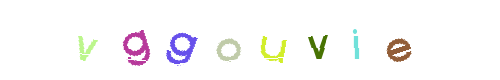E: (356, 0, 436, 80)
G: (141, 0, 221, 80), (153, 0, 233, 80)
I: (278, 0, 358, 80)
O: (210, 0, 290, 80)
U: (233, 0, 313, 80)
V: (97, 0, 177, 80), (275, 0, 355, 80)
